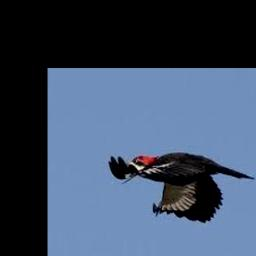Woodpecker: (109, 152, 256, 223)
